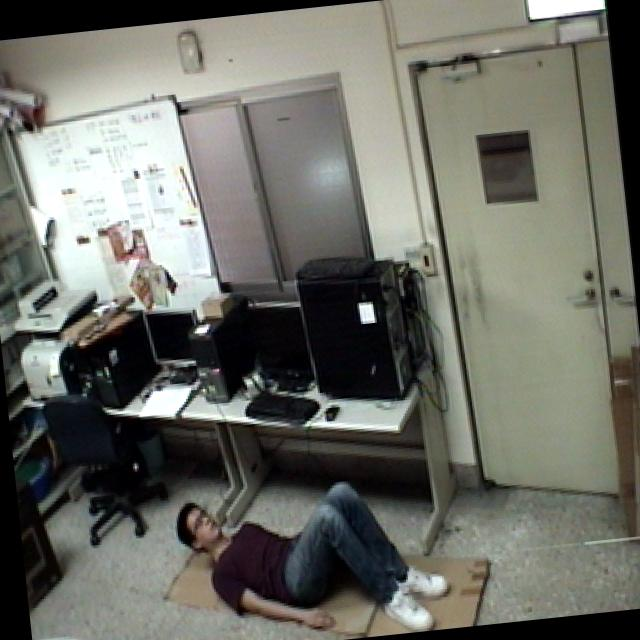lie: (170, 462, 460, 640)
